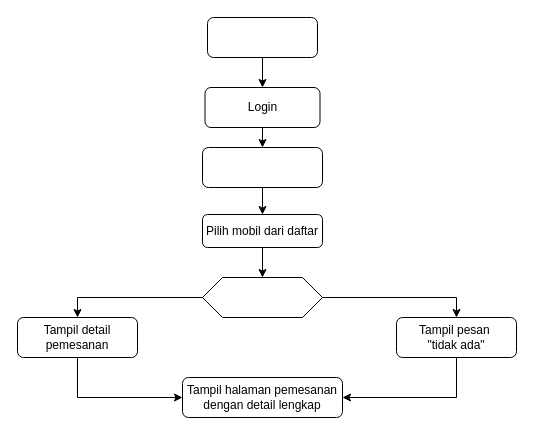
This 534x435 diagram has some shape labels left out. Each missing label, with the centre of its shape:
Ada pemesanan?: point (262, 297)
Masuk ke bagian "Mobil saya": point (262, 167)
Mulai: point (262, 37)
